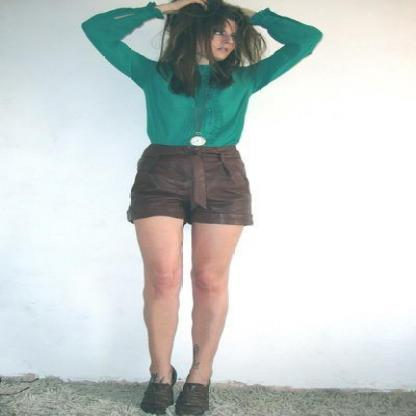shirt: (81, 2, 321, 148)
shoe: (145, 375, 209, 400)
shorts: (127, 144, 252, 226)
